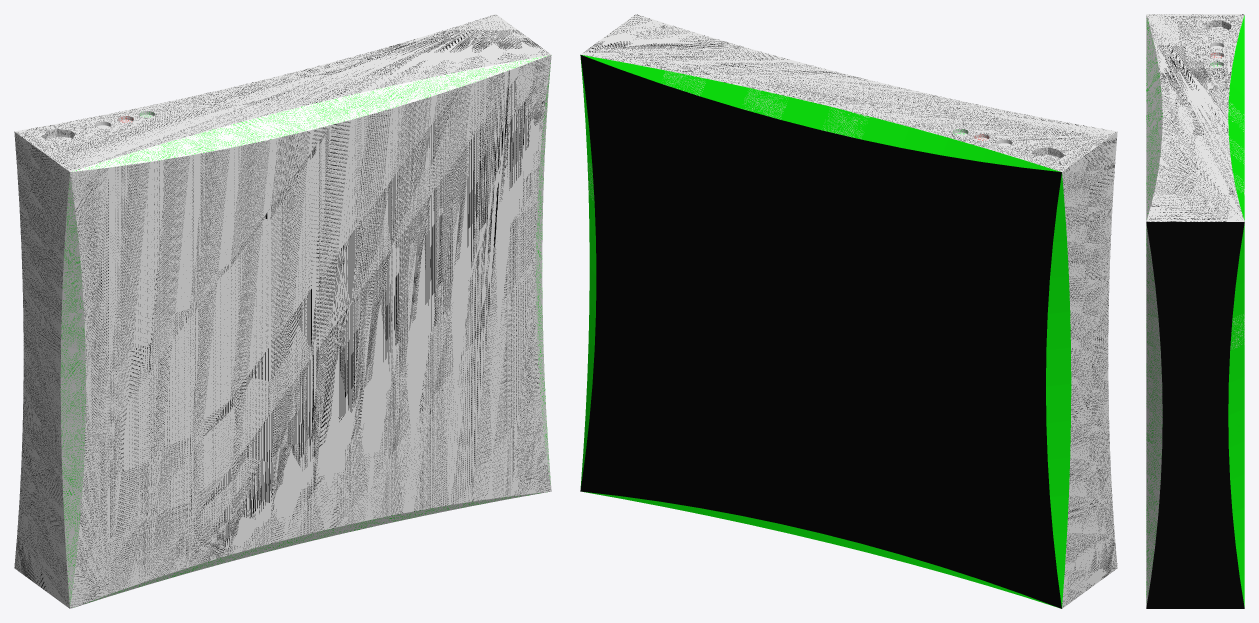
The picture shows the model from 3 angles, left to right: view 1: azimuth 30°, elevation 25°; view 2: azimuth 150°, elevation 25°; view 3: azimuth 270°, elevation 25°; orthographic projection. The views are drawn at different scales.
Visible parts, largest first — view 1: the xbx xbox extreame; view 2: the xbx xbox extreame; view 3: the xbx xbox extreame.
Boxes of the visible parts, box(x1,y1,x2,y2) form: the xbx xbox extreame: box(14, 14, 551, 608); the xbx xbox extreame: box(580, 14, 1117, 608); the xbx xbox extreame: box(1146, 14, 1244, 608).
Bounding box in the file's own units: 33.9 × 29.63 × 6.78.
